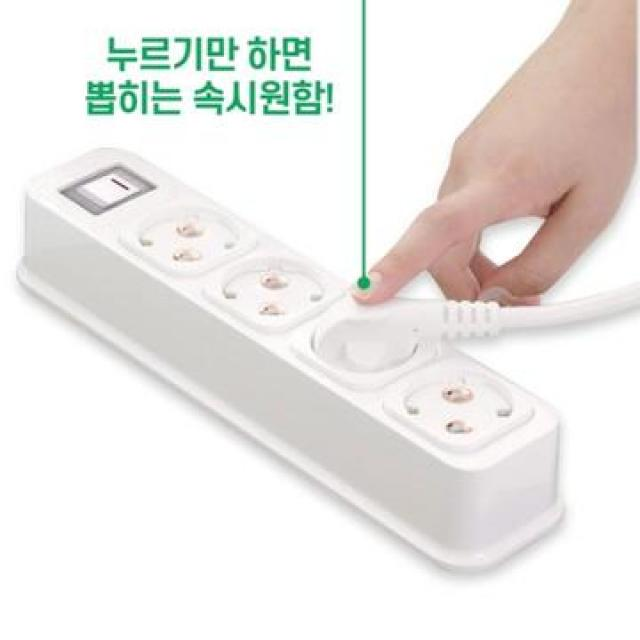typeb: (17, 122, 573, 568)
